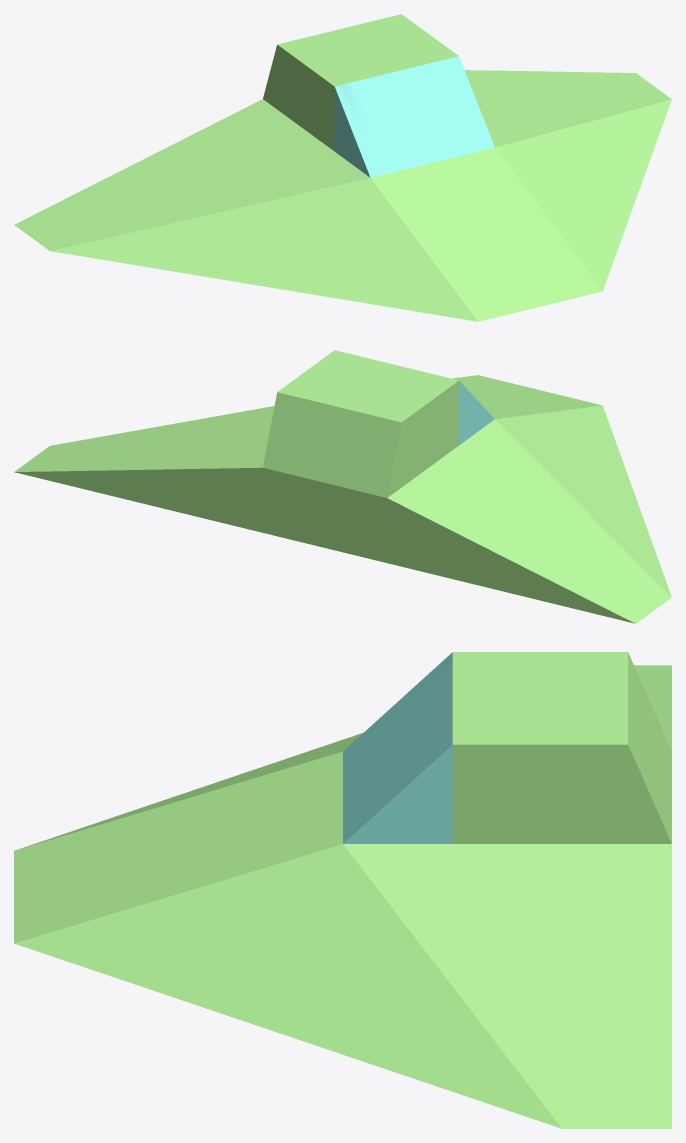
Rendered from player.obj.
The picture shows the model from 3 angles, top to bottom: view 1: azimuth 30°, elevation 25°; view 2: azimuth 150°, elevation 25°; view 3: azimuth 270°, elevation 25°; orthographic projection. The views are drawn at different scales.
Parts seen in each view (by area): view 1: 立方体; view 2: 立方体; view 3: 立方体.
Boxes of the visible parts, x1=… form: 立方体: x1=14, y1=14, x2=671, y2=321; 立方体: x1=14, y1=350, x2=671, y2=623; 立方体: x1=14, y1=652, x2=671, y2=1128.
Size of the model in its own units: 10 by 2 by 6.
Materials: 1 (1 with a texture image).
